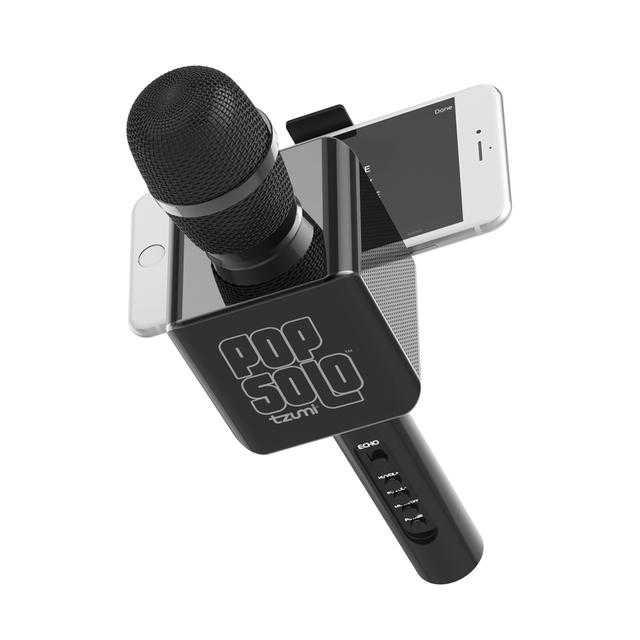microphone: (77, 61, 592, 574)
